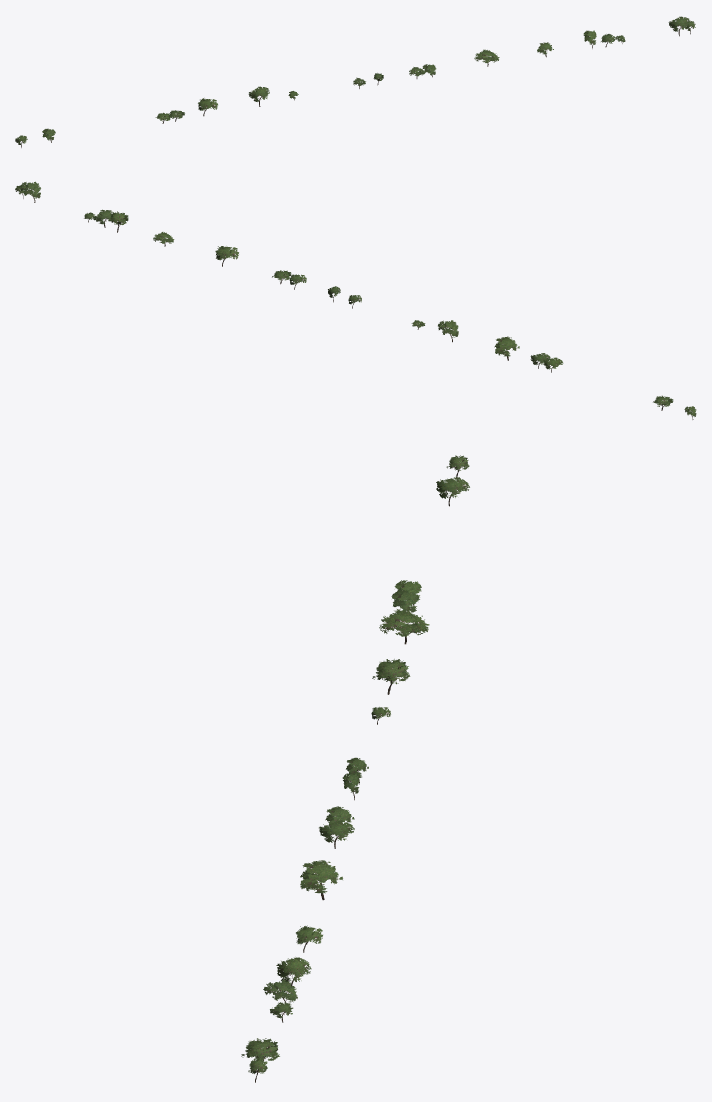
The picture shows the model from 3 angles, top to bottom: view 1: azimuth 30°, elevation 25°; view 2: azimuth 150°, elevation 25°; view 3: azimuth 270°, elevation 25°; orthographic projection. The views are drawn at different scales.
Visible parts, largest first — view 1: Marina Boulevard Sindora crowns; view 2: Marina Boulevard Sindora crowns; view 3: Marina Boulevard Sindora crowns.
Boxes of the visible parts, x1=… form: Marina Boulevard Sindora crowns: x1=15, y1=16, x2=695, y2=144; Marina Boulevard Sindora crowns: x1=15, y1=181, x2=696, y2=416; Marina Boulevard Sindora crowns: x1=241, y1=455, x2=469, y2=1073.
Size of the model in its own units: 418 by 11.04 by 68.13.
2 materials, 2 textured.
